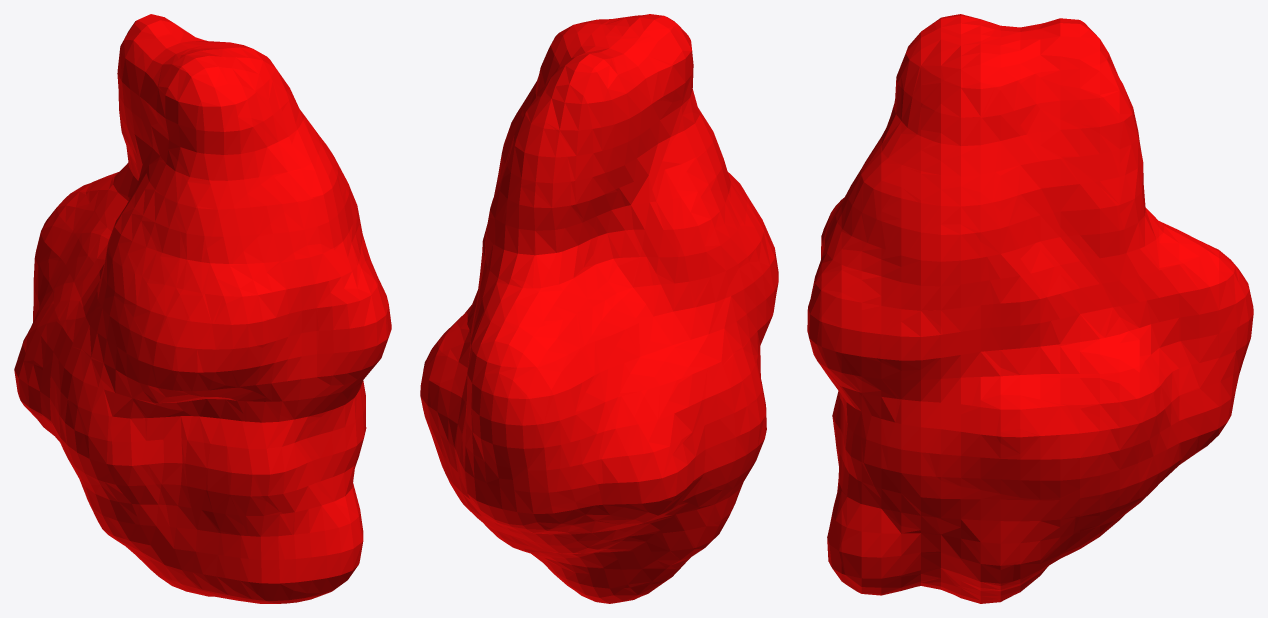
The model's file is ygaU_coarse.dae.
3 views of the same model, side by side, from view 1: azimuth 30°, elevation 25°; view 2: azimuth 150°, elevation 25°; view 3: azimuth 270°, elevation 25° (orthographic). The views are drawn at different scales.
Visible parts, largest first — view 1: ygaU; view 2: ygaU; view 3: ygaU.
Boxes of the visible parts, left/top/right/bottom form: ygaU: left=14, top=14, right=391, bottom=603; ygaU: left=420, top=14, right=778, bottom=603; ygaU: left=807, top=14, right=1253, bottom=603.
Bounding box in the file's own units: 30.6 × 58.2 × 41.61.
